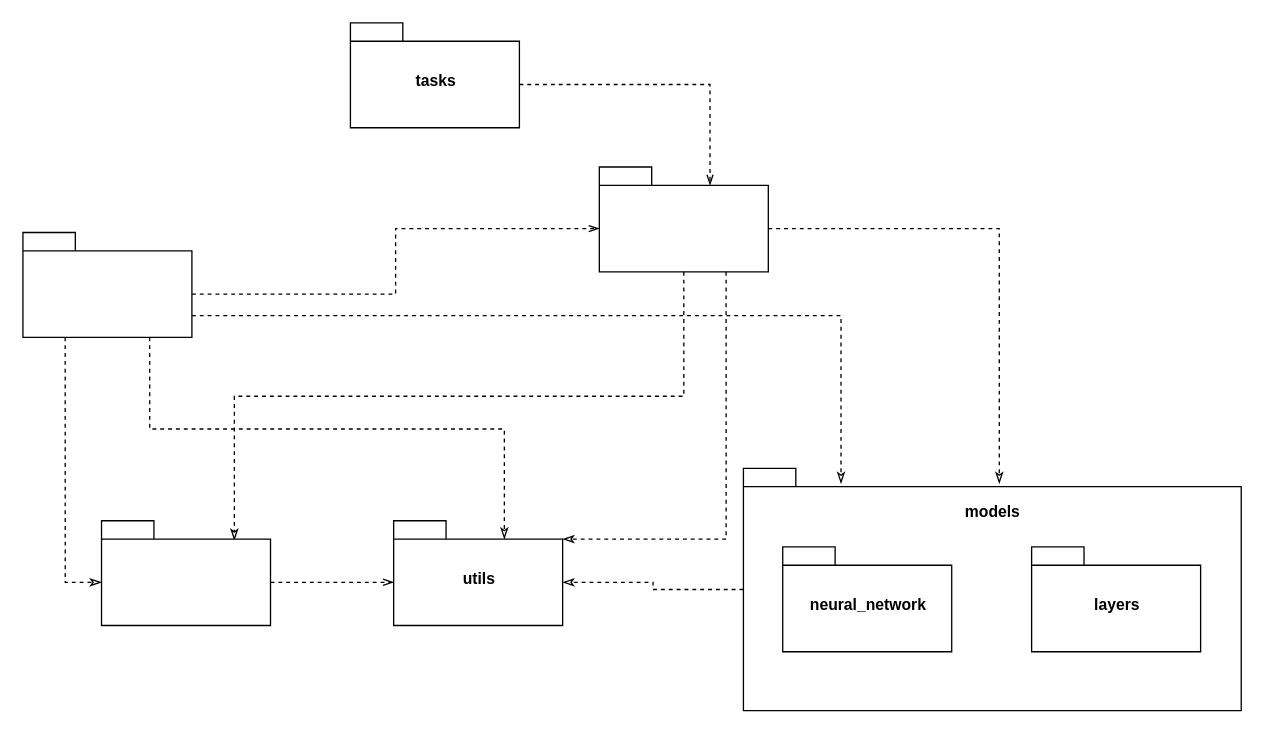
This 1264x734 diagram has some shape labels left out. Here are the shapes that lost their labels. From the top down, the box of each, then its label:
(598, 166, 768, 272): super_resolution
(22, 231, 192, 337): tests
(100, 519, 271, 626): dataset
